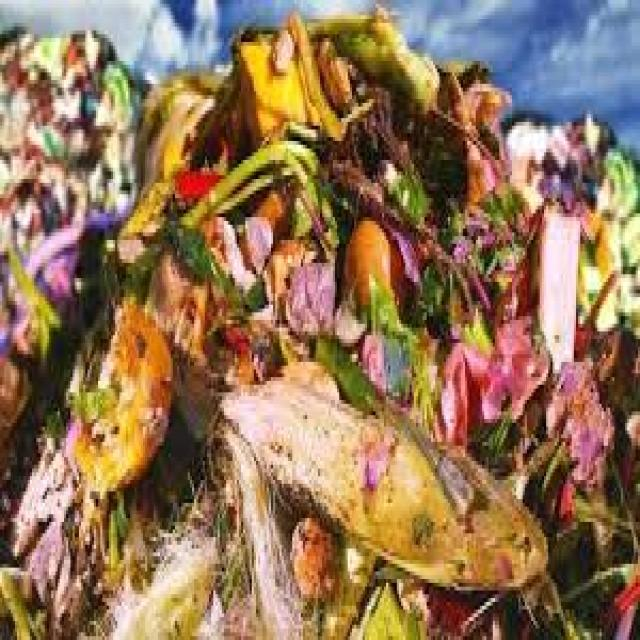food_waste: (0, 4, 640, 640)
